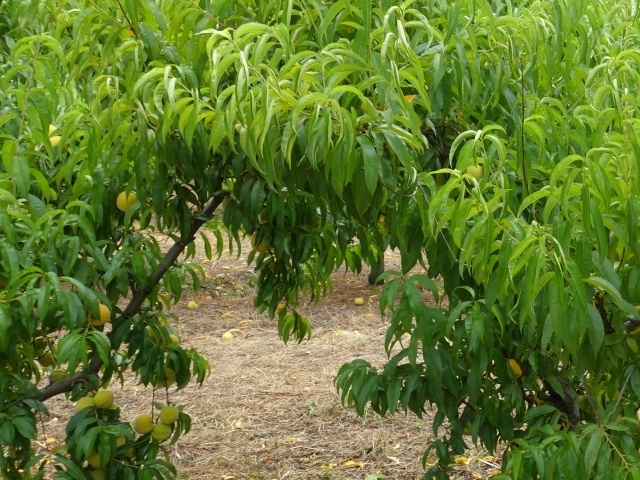peach: (113, 187, 141, 216), (85, 303, 112, 329), (131, 411, 159, 436), (152, 367, 179, 391), (69, 393, 97, 416), (246, 231, 271, 256), (146, 421, 172, 445), (155, 403, 183, 425), (91, 389, 116, 411)
